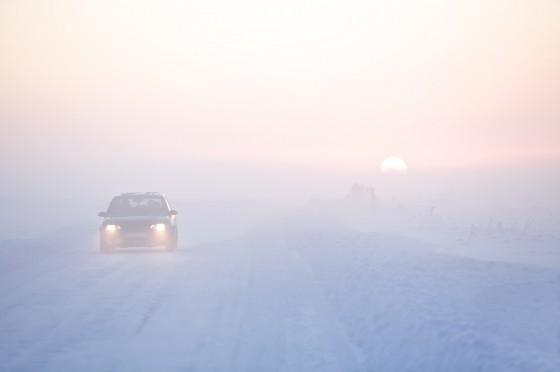car: (96, 190, 180, 253)
